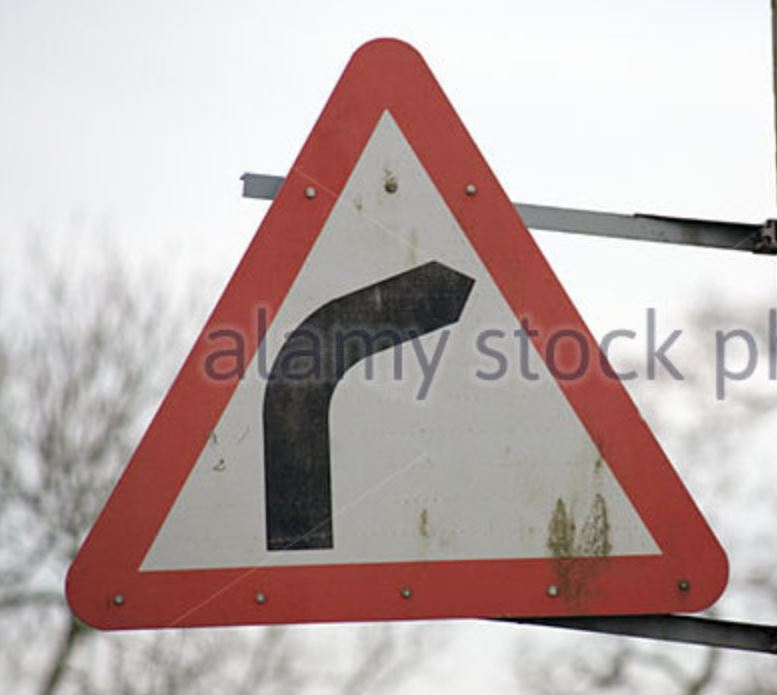Bend_to_right: (46, 33, 743, 641)
